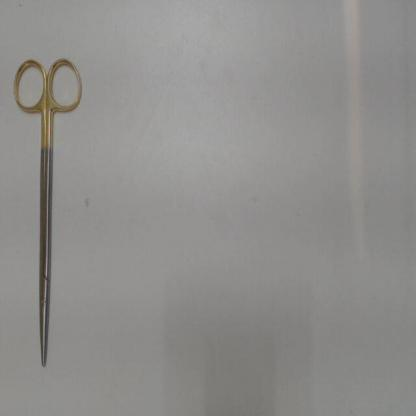7 Metzenbaum Scissors: (11, 50, 88, 379)
